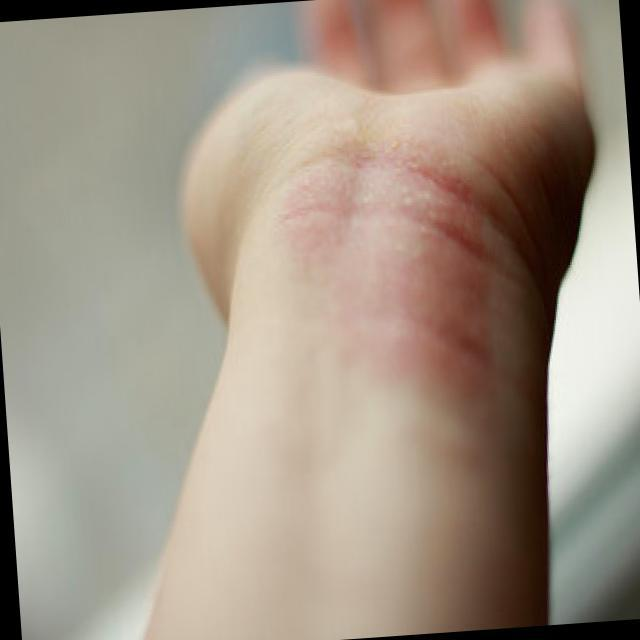Eczema: (280, 150, 502, 408)
